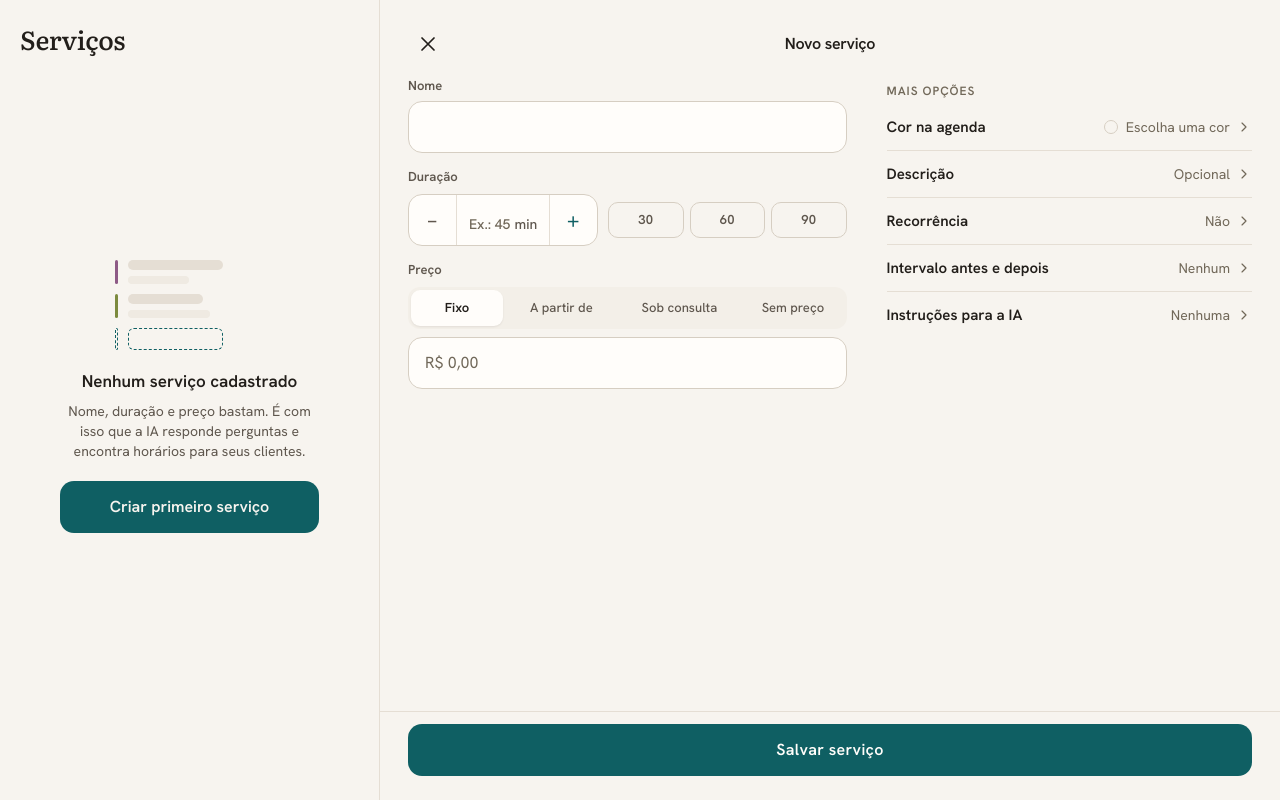
Test: §4.6 a frase 'A IA responde' por tipo de preço › NOT_INFORMED: 'Hidratação leva 30 min; o valor você confirma com a cliente.'
The width and height of the screenshot is (1280, 800).
Type "Hidratação" into the field labelled "Nome" at point(627, 127), box [408,101,846,153]
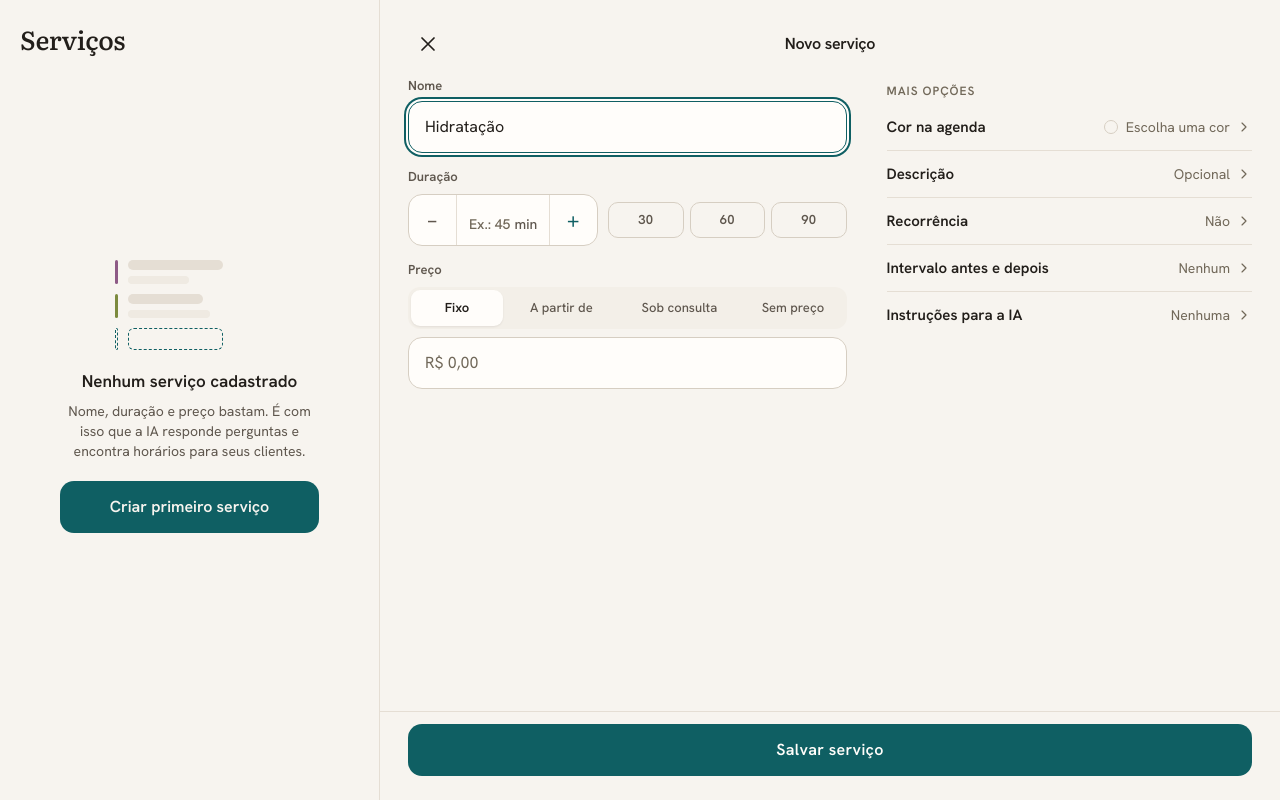
Type "30" into the number field named "Duração (minutos)" at point(490, 220), box [469,205,510,235]
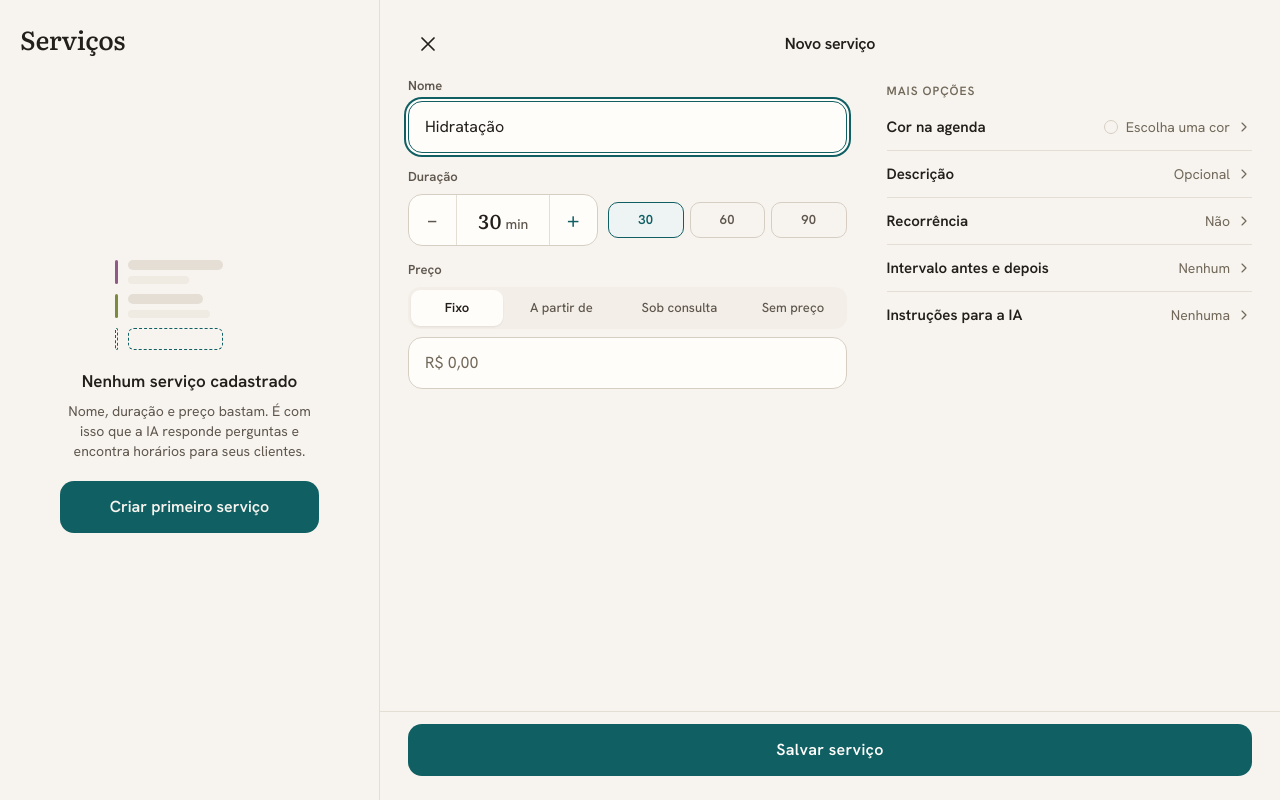
Click the radio button labelled "Sem preço" at point(793, 307), box [762,299,824,316]
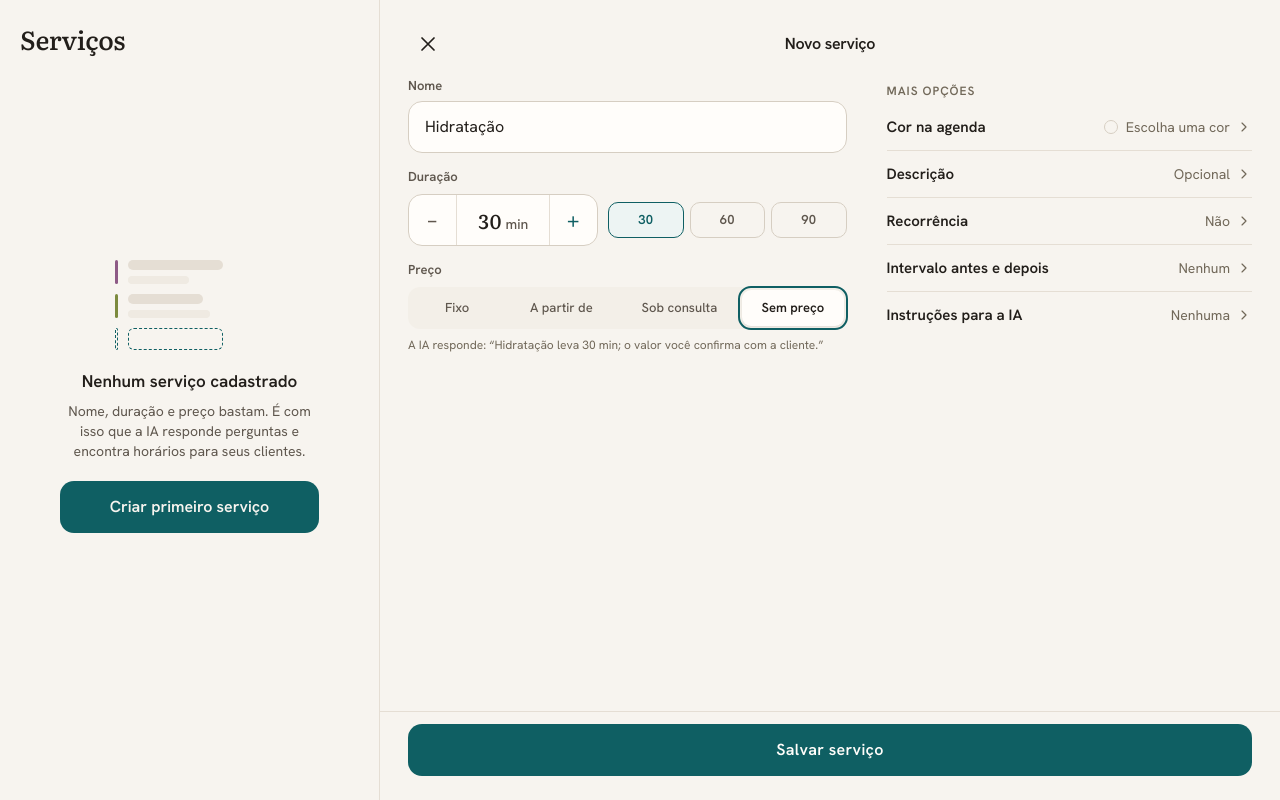
Expected: the text "A IA responde: “Hidratação leva 30 min; o valor você confirma com a cliente.”" is shown, [408,337,846,354]
